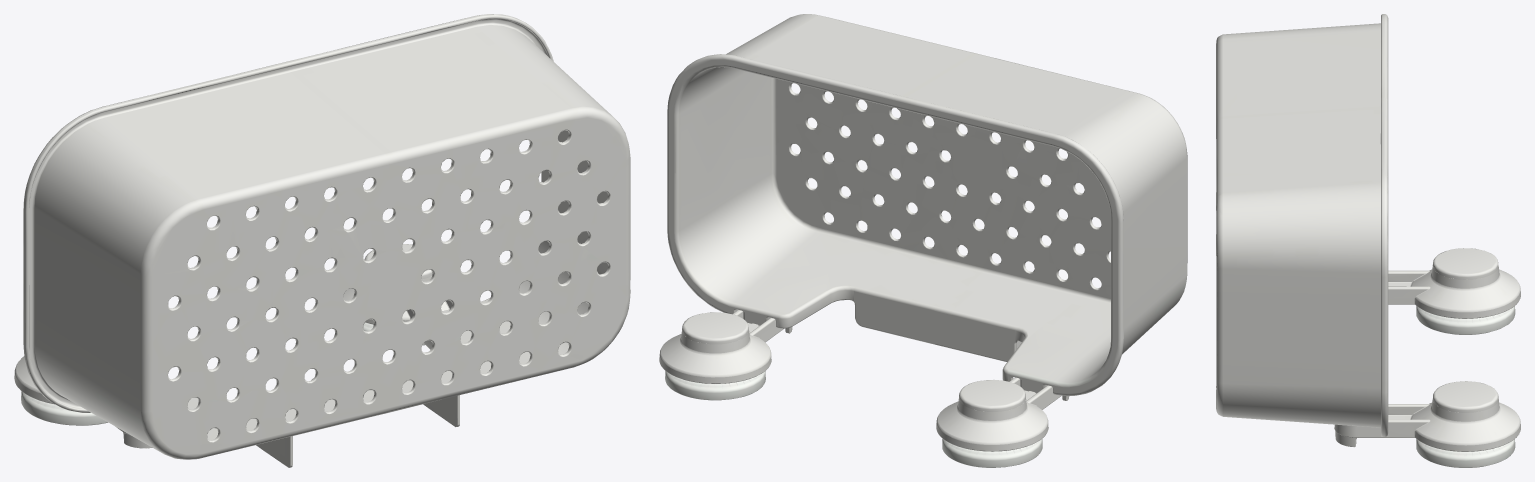
The model's file is Tisken40381253-scene-512.glb.
3 renders of one model, left to right at view 1: azimuth 30°, elevation 25°; view 2: azimuth 150°, elevation 25°; view 3: azimuth 270°, elevation 25°, orthographic. The views are drawn at different scales.
Visible parts, largest first — view 1: 1; view 2: 1; view 3: 1.
Boxes of the visible parts, x1=… form: 1: x1=14, y1=14, x2=630, y2=467; 1: x1=659, y1=14, x2=1187, y2=467; 1: x1=1216, y1=14, x2=1520, y2=467.
Size of the model in its own units: 0.2861 by 0.1727 by 0.1685.
Materials: 2 (1 with a texture image).
